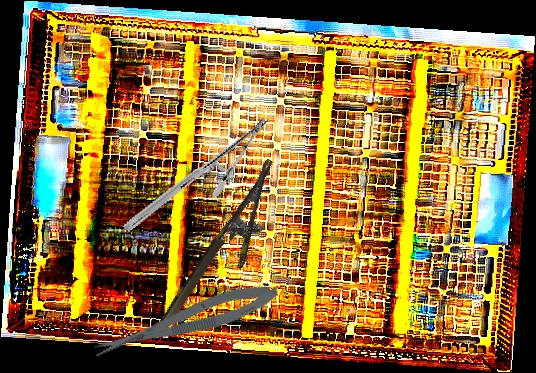Micro Scissor: (89, 275, 282, 365)
Needle Holder: (151, 158, 301, 353), (122, 83, 271, 265)
